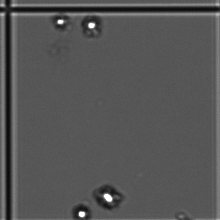Living Cell: (92, 183, 127, 207), (80, 14, 110, 39), (71, 200, 91, 220), (51, 13, 68, 33)
